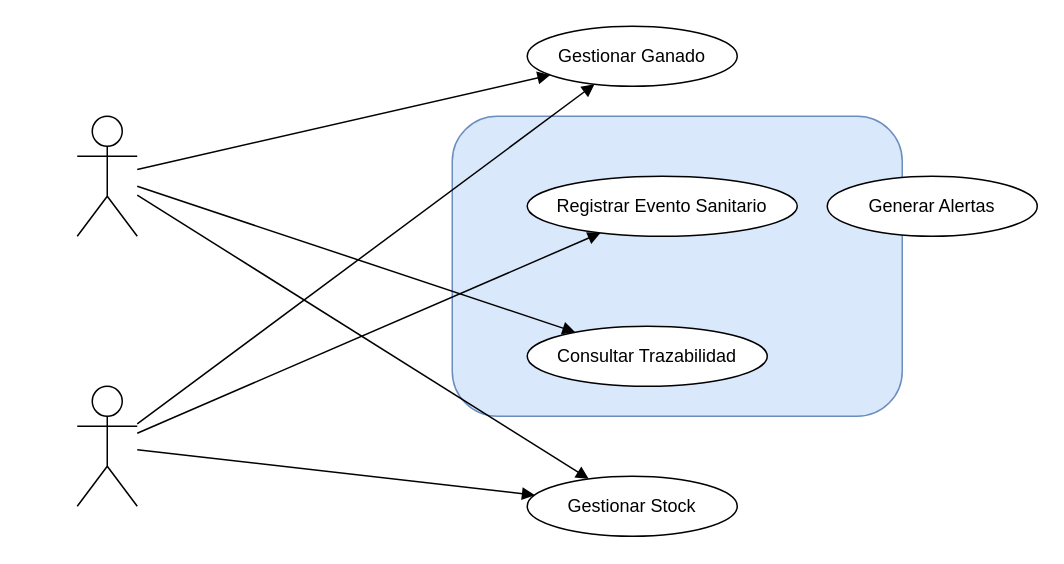
Some shapes in this 1064 by 564 pixel diagram are drawn without their labels. The box of each missing label's shape, as (x1, y1, x2, y2) in pixels:
Personal de Campo: (76, 385, 137, 506)
Productor Ganadero: (76, 115, 137, 236)
Sistema Ganadapp: (451, 115, 902, 416)
